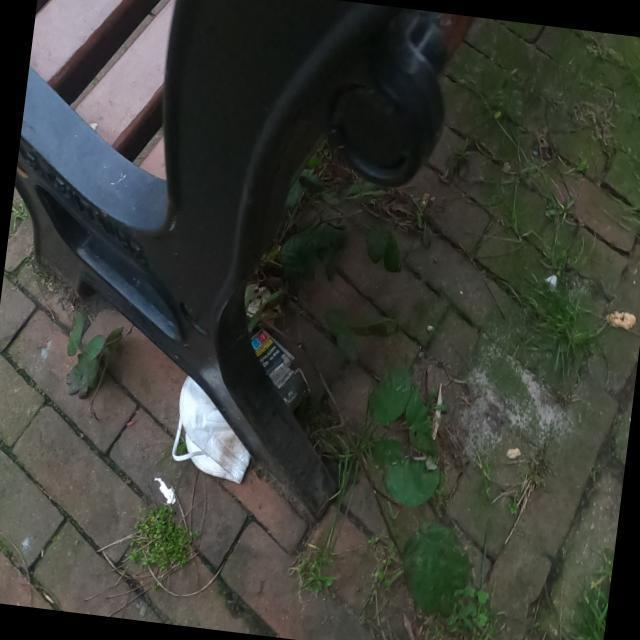Mask: (172, 374, 252, 485)
Paper: (248, 324, 312, 414)
